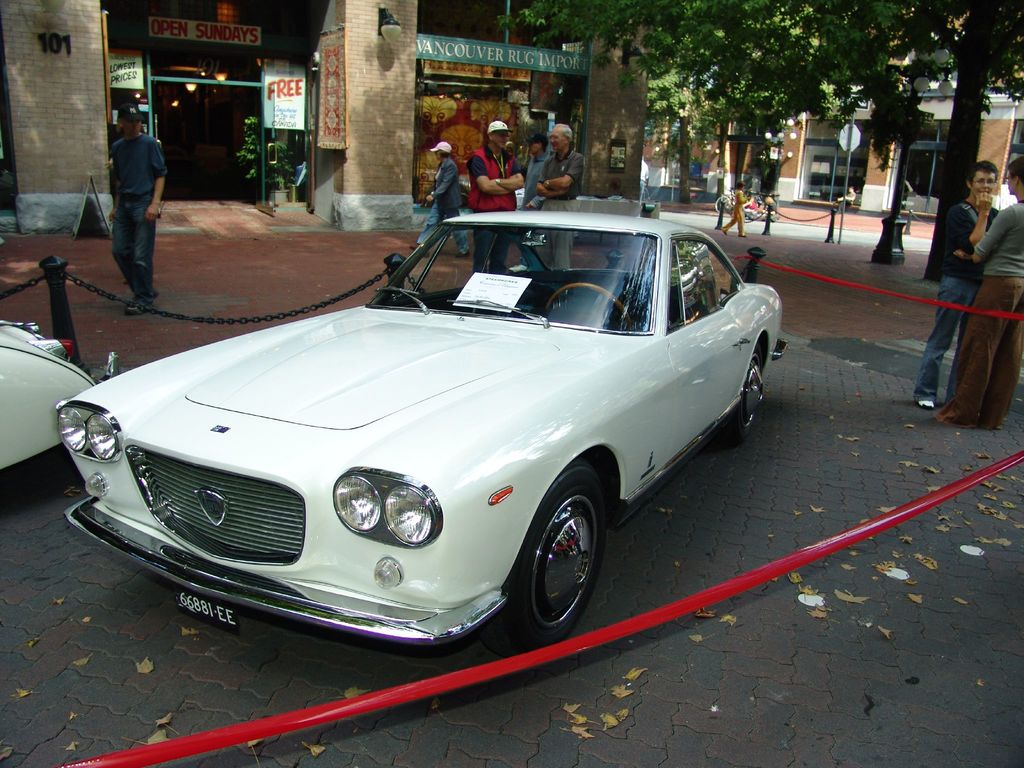Car: (52, 202, 792, 650)
